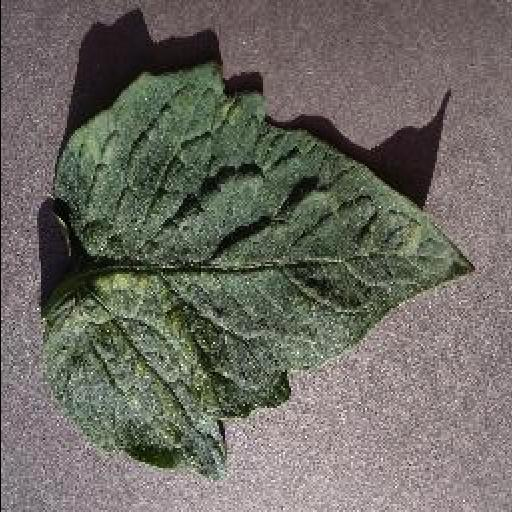disease_tomato: (42, 64, 478, 482)
